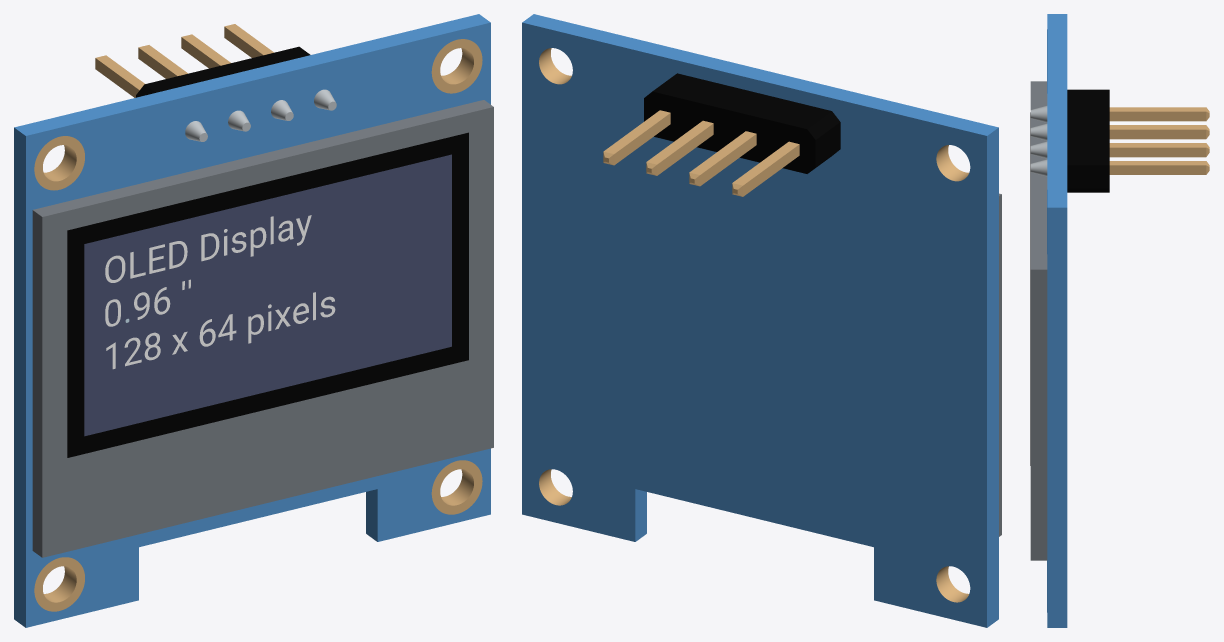
Rendered from OLED_SSD1306_0.96_I2C.gltf.
3 views of the same model, side by side, from view 1: azimuth 30°, elevation 25°; view 2: azimuth 150°, elevation 25°; view 3: azimuth 270°, elevation 25° (orthographic). The views are drawn at different scales.
Visible parts, largest first — view 1: Part 1; view 2: Part 1; view 3: Part 1.
Part boxes in pixels (left/top/right/bottom): Part 1: left=14, top=14, right=493, bottom=627; Part 1: left=522, top=14, right=1001, bottom=627; Part 1: left=1030, top=14, right=1209, bottom=627.
Bounding box in the file's own units: 0.0275 × 0.0278 × 0.0108.
